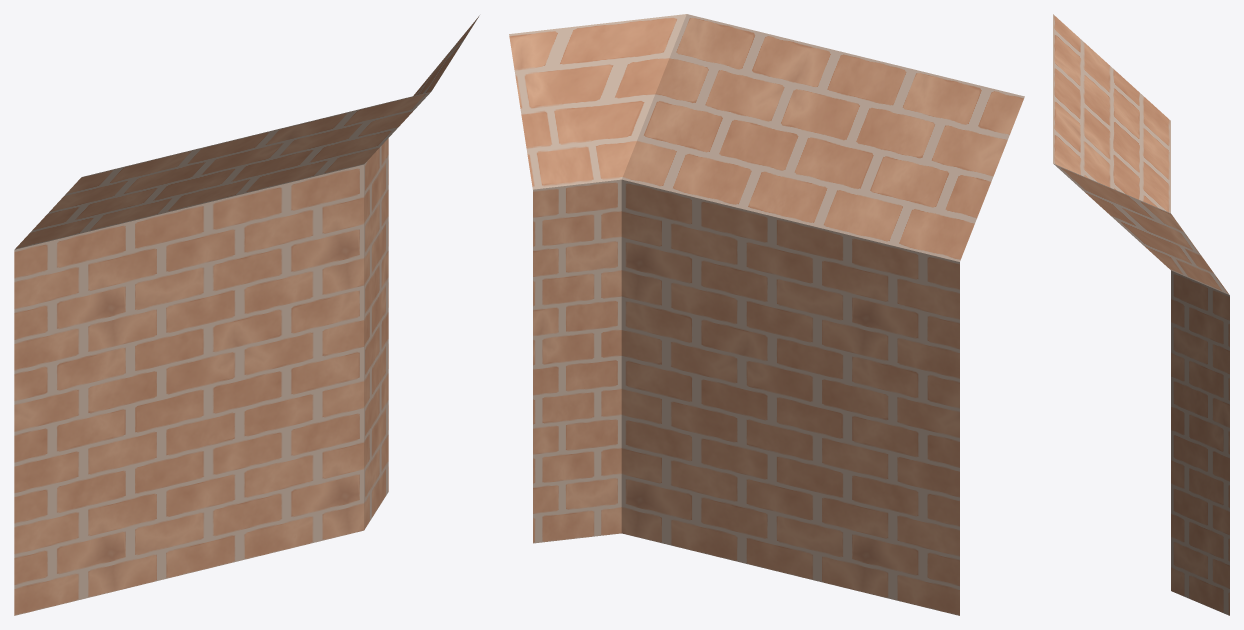
Rendered from Top_Temp_Wall_Cor_L.fbx.
3 renders of one model, left to right at view 1: azimuth 30°, elevation 25°; view 2: azimuth 150°, elevation 25°; view 3: azimuth 270°, elevation 25°, orthographic. The views are drawn at different scales.
Visible parts, largest first — view 1: Top_Temp_Wall_Cor_L; view 2: Top_Temp_Wall_Cor_L; view 3: Top_Temp_Wall_Cor_L.
Boxes of the visible parts, left/top/right/bottom form: Top_Temp_Wall_Cor_L: left=14, top=15, right=479, bottom=615; Top_Temp_Wall_Cor_L: left=509, top=14, right=1024, bottom=615; Top_Temp_Wall_Cor_L: left=1053, top=14, right=1229, bottom=615.
Size of the model in its own units: 100 by 100 by 37.5.
1 material, 1 textured.
